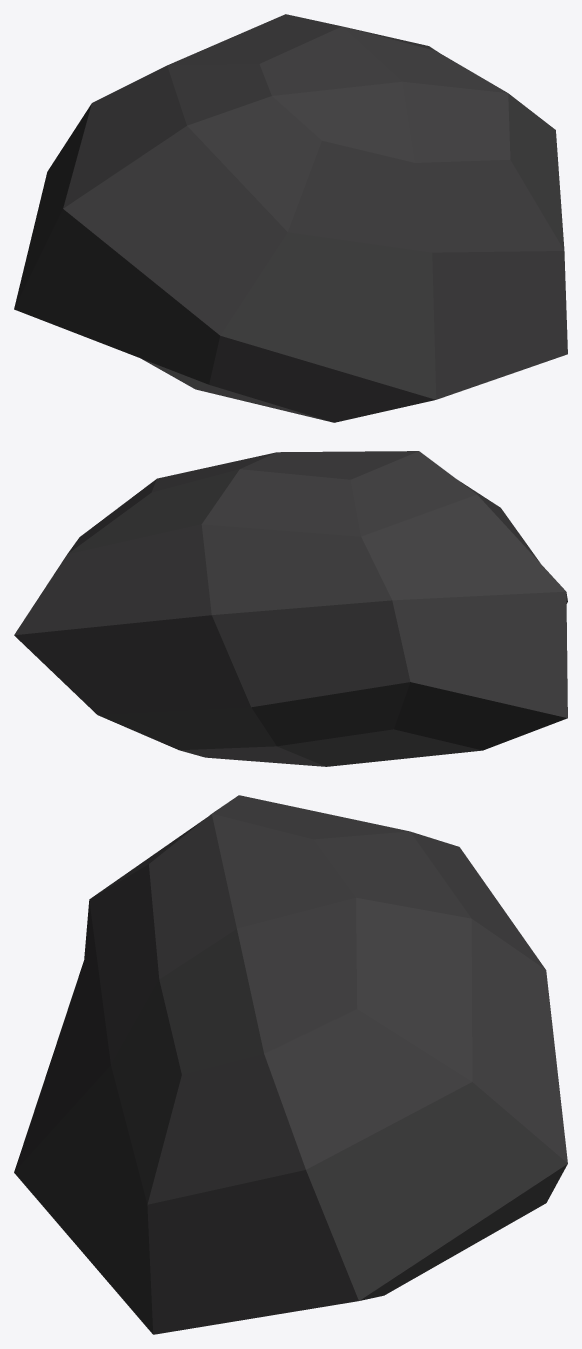
The model's file is 3DObj_stone_v2.fbx.
3 renders of one model, top to bottom at view 1: azimuth 30°, elevation 25°; view 2: azimuth 150°, elevation 25°; view 3: azimuth 270°, elevation 25°, orthographic. The views are drawn at different scales.
Visible parts, largest first — view 1: 3DObj_stone_v2; view 2: 3DObj_stone_v2; view 3: 3DObj_stone_v2.
Boxes of the visible parts, x1=… form: 3DObj_stone_v2: x1=14, y1=14, x2=567, y2=422; 3DObj_stone_v2: x1=14, y1=451, x2=567, y2=766; 3DObj_stone_v2: x1=14, y1=795, x2=567, y2=1334.
Bounding box in the file's own units: 70.1 × 40.33 × 51.48.
Materials: 1 (1 with a texture image).
